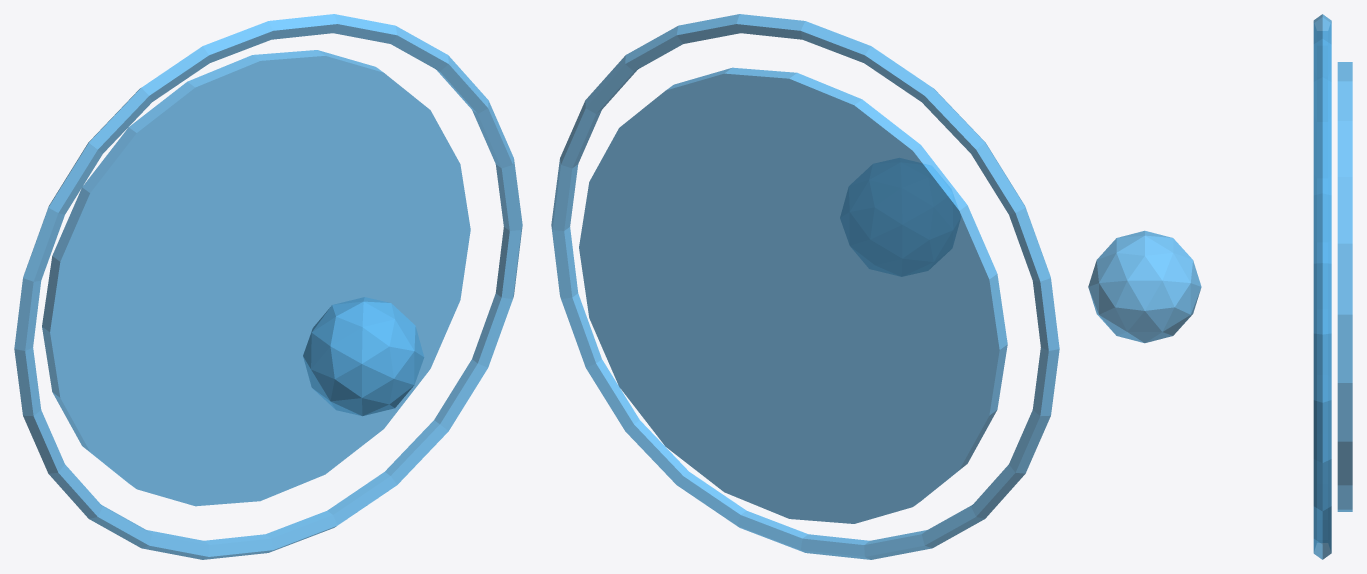
Rendered from summon_circle_basic.glb.
3 views of the same model, side by side, from view 1: azimuth 30°, elevation 25°; view 2: azimuth 150°, elevation 25°; view 3: azimuth 270°, elevation 25° (orthographic). The views are drawn at different scales.
Parts seen in each view (by area): view 1: summon_disc, summon_ring, summon_core; view 2: summon_disc, summon_ring; view 3: summon_ring, summon_core, summon_disc.
Boxes of the visible parts, x1,y1,x2,y2 form: summon_disc: (42, 50, 470, 506); summon_ring: (14, 14, 522, 559); summon_core: (303, 297, 424, 416); summon_disc: (579, 67, 1007, 523); summon_ring: (551, 14, 1059, 559); summon_ring: (1313, 14, 1331, 559); summon_core: (1088, 230, 1201, 343); summon_disc: (1337, 62, 1352, 511).
Bounding box in the file's own units: 1.45 × 1.45 × 0.7.
